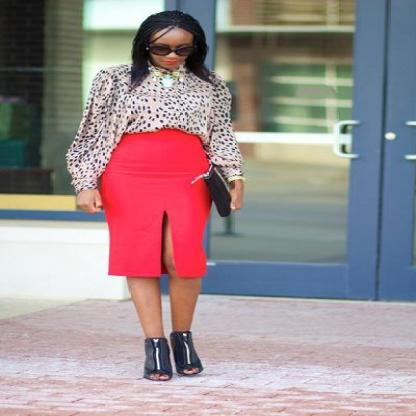bag: (204, 175, 230, 216)
pants: (98, 127, 210, 278)
shirt: (64, 60, 244, 188)
shoe: (143, 330, 203, 380)
